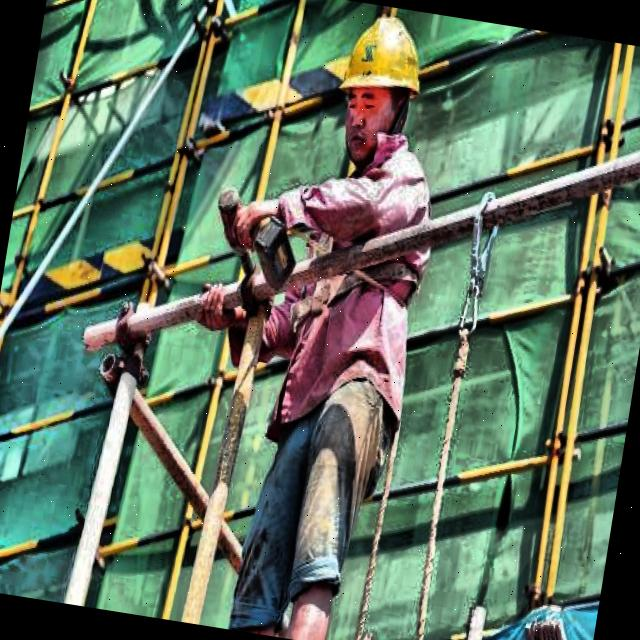helmet: (314, 1, 440, 184)
